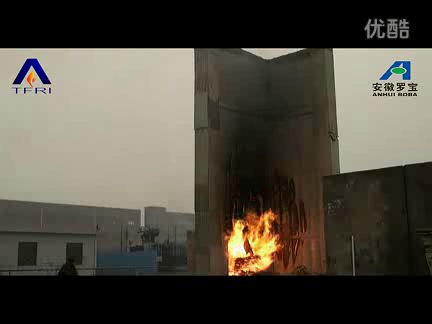fire: (225, 204, 282, 278)
